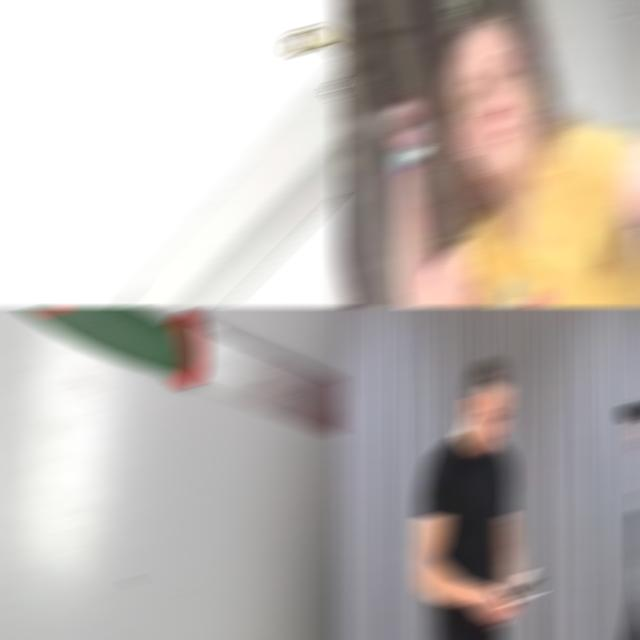Knife: (112, 25, 344, 306), (14, 308, 344, 435)
Knife_Handle: (334, 100, 431, 155), (472, 584, 542, 627)
